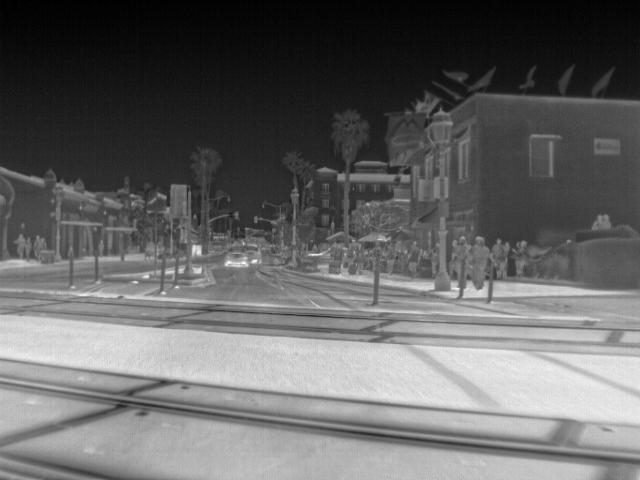car: (240, 245, 262, 266), (224, 246, 248, 265), (305, 248, 329, 267)
person: (468, 236, 497, 291), (512, 239, 530, 277), (405, 240, 422, 278), (491, 238, 504, 276), (383, 243, 398, 275), (500, 240, 514, 274), (12, 233, 27, 258), (20, 238, 32, 258), (95, 236, 107, 255)
